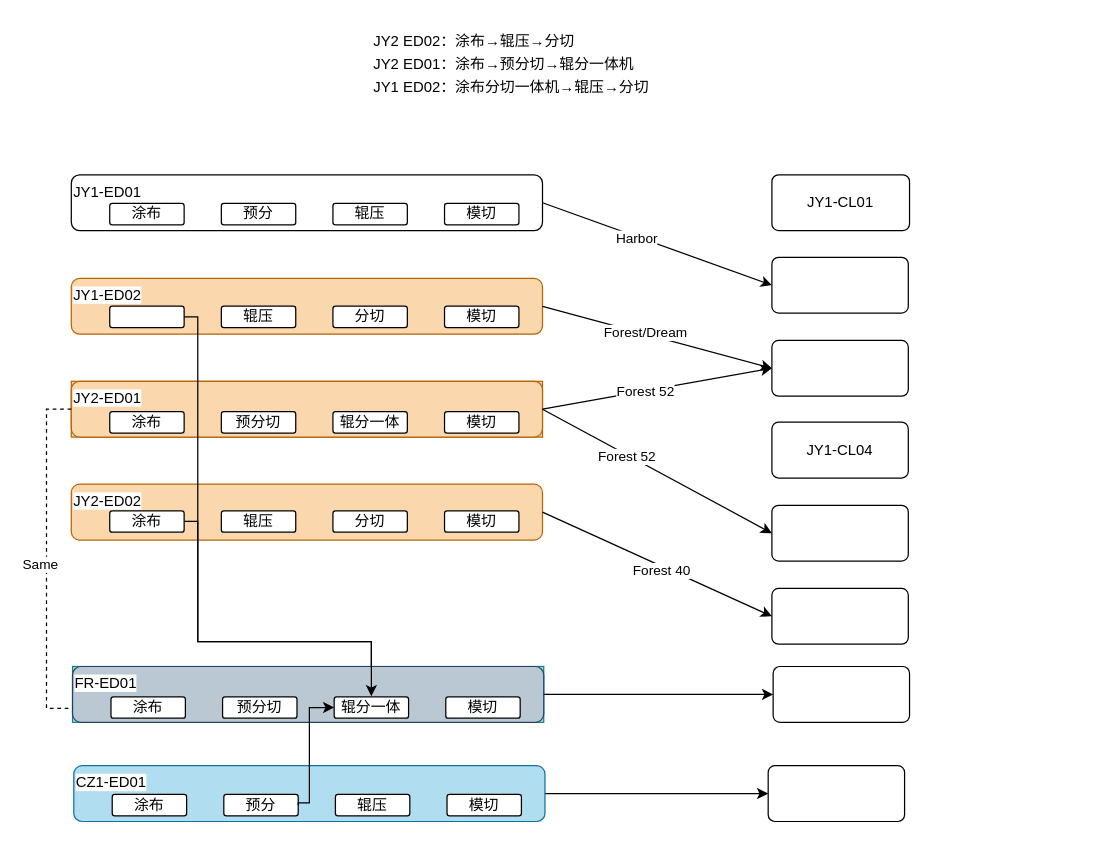
Image size: 1114x843. Some labels were removed from this diagram. The shapes that lost their labels are listed below. From the top down, each one's centre as x and y in pixels, then its label:
At point (839, 284): "JY1-CL02".
At point (146, 316): "涂布分切".
At point (839, 367): "JY1-CL03".
At point (839, 532): "JY2-CL01".
At point (839, 615): "JY2-CL02".
At point (841, 693): "FR-CL01".
At point (836, 793): "CZ-CL01".
